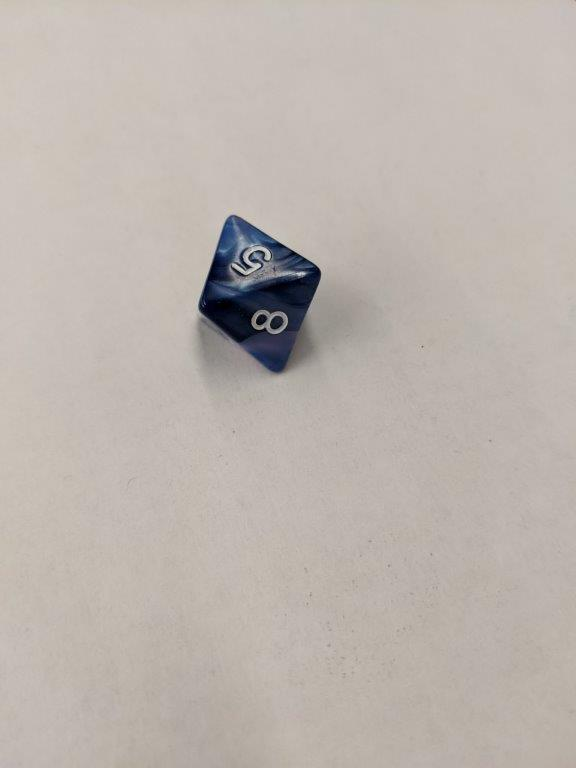d8-5: (200, 213, 324, 373)
